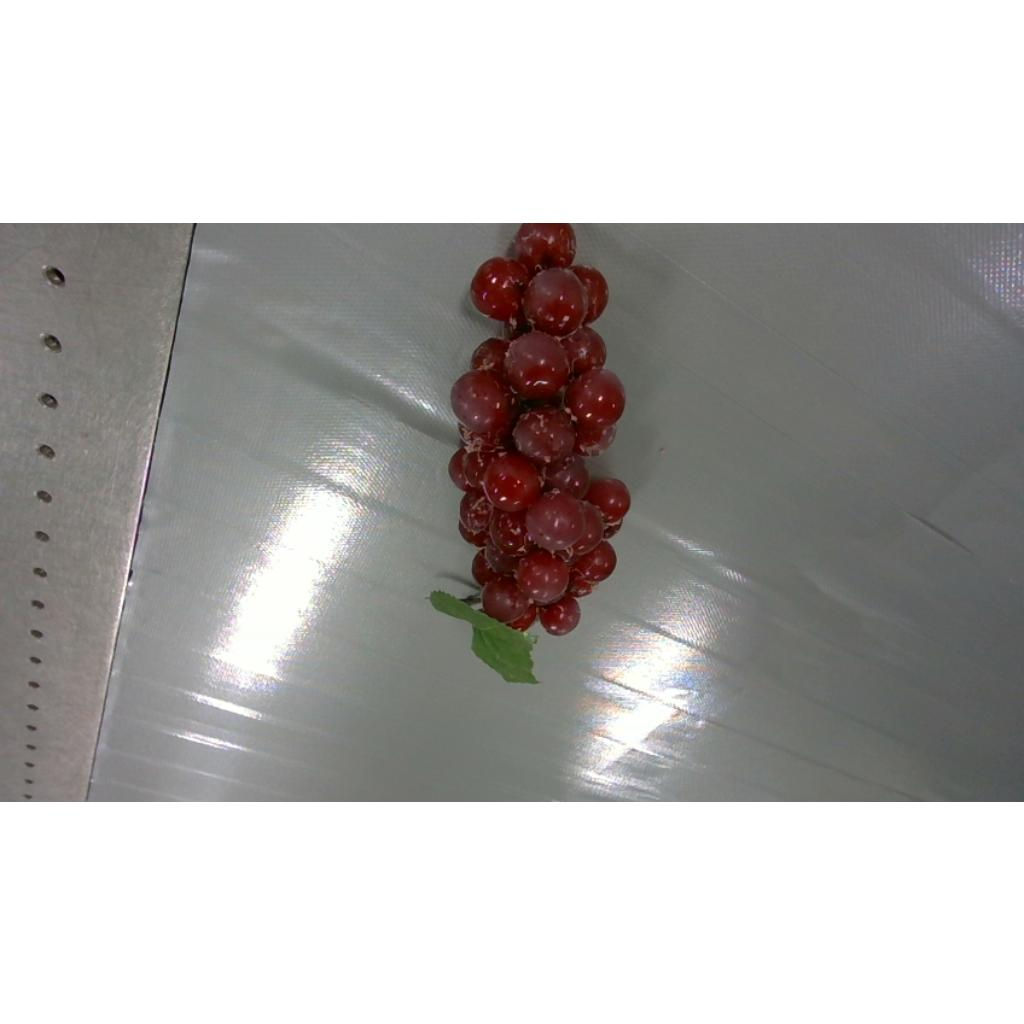grape: (430, 222, 630, 682)
